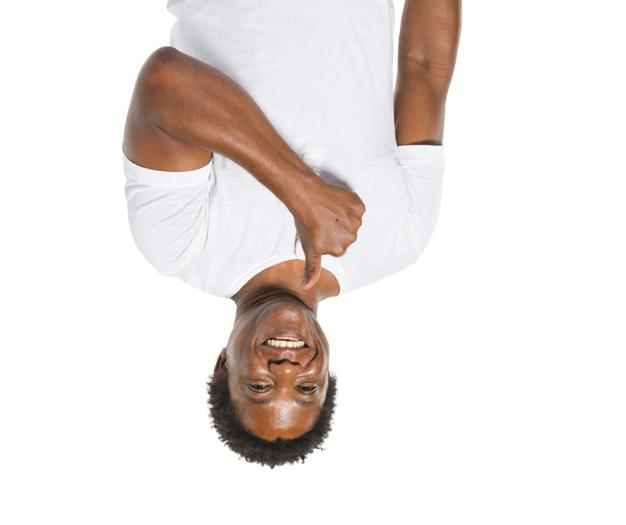thumbsdown: (298, 194, 366, 291)
